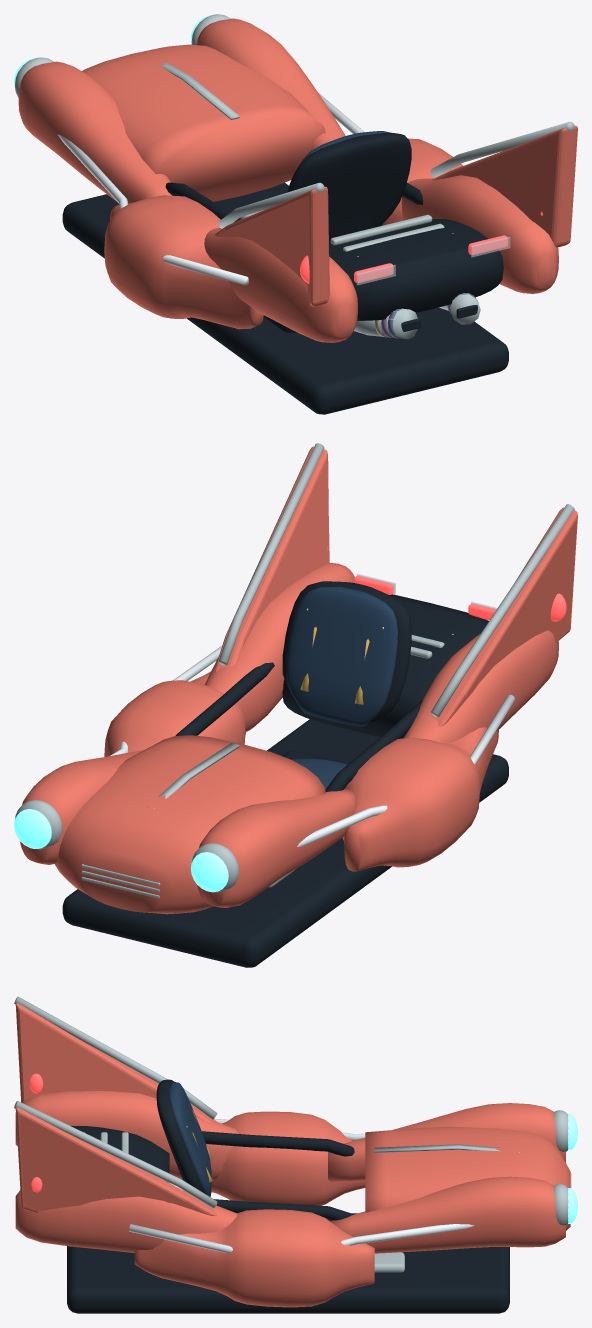
The model's file is nala_comet.glb.
3 views of the same model, one above another, from view 1: azimuth 30°, elevation 25°; view 2: azimuth 150°, elevation 25°; view 3: azimuth 270°, elevation 25° (orthographic). The views are drawn at different scales.
Parts seen in each view (by area): view 1: LOD0, ShowroomDetail; view 2: LOD0; view 3: LOD0.
Part boxes in pixels (left/top/right/bottom): LOD0: left=14, top=14, right=577, bottom=414; ShowroomDetail: left=356, top=236, right=510, bottom=338; LOD0: left=14, top=443, right=577, bottom=967; LOD0: left=14, top=996, right=577, bottom=1313.
Size of what is drawn, in the model's own units: 1.42 by 1.07 by 2.42.
